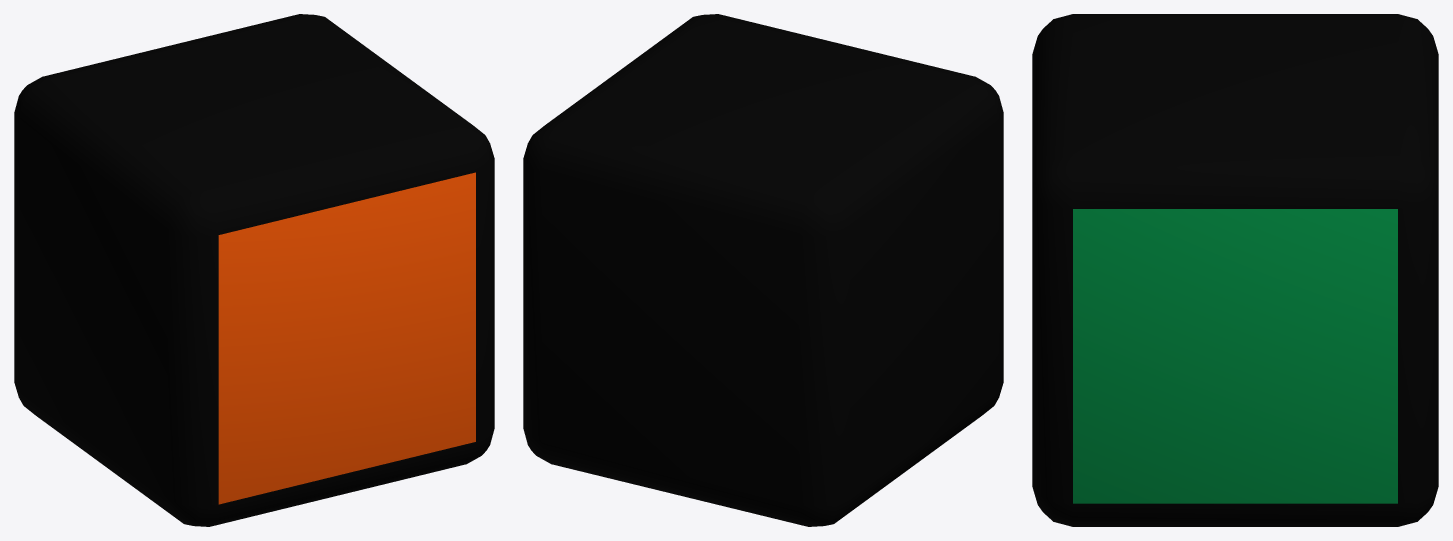
File: cube_up_left_edge.gltf
3 renders of one model, left to right at view 1: azimuth 30°, elevation 25°; view 2: azimuth 150°, elevation 25°; view 3: azimuth 270°, elevation 25°, orthographic. The views are drawn at different scales.
Visible parts, largest first — view 1: Cube.011; view 2: Cube.011; view 3: Cube.011.
Boxes of the visible parts, x1,y1,x2,y2 form: Cube.011: [14, 14, 494, 526]; Cube.011: [523, 14, 1003, 526]; Cube.011: [1032, 14, 1438, 526].
Bounding box in the file's own units: 2 × 2 × 2.
